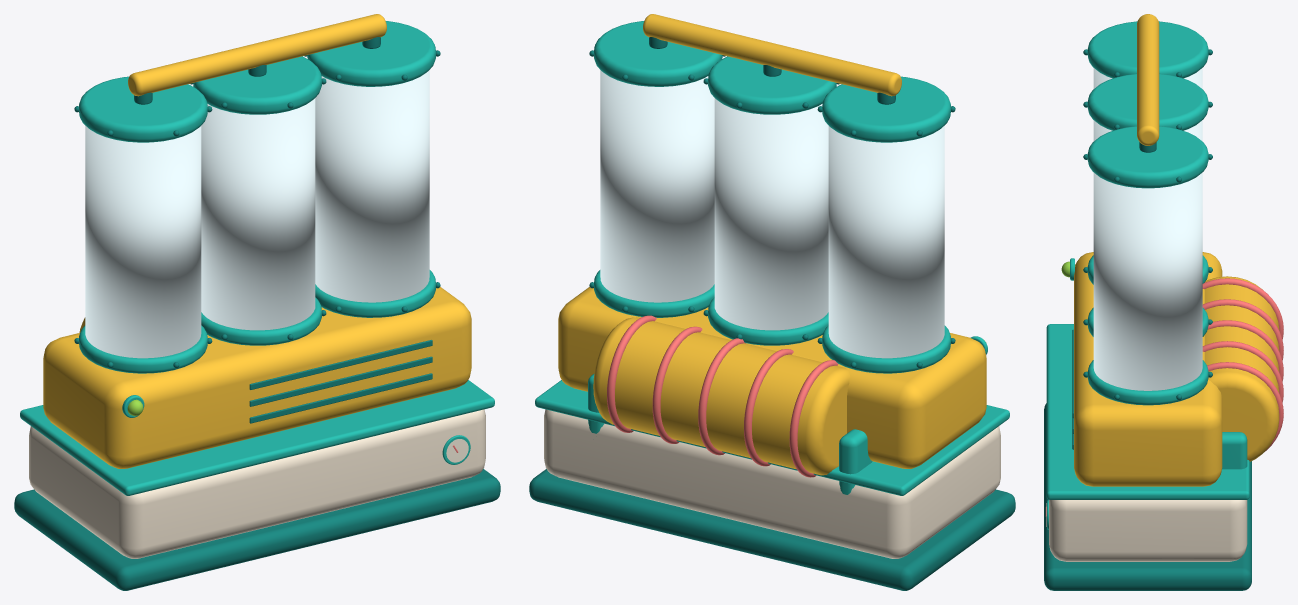
The model's file is GenTide.fbx.
The picture shows the model from 3 angles, left to right: view 1: azimuth 30°, elevation 25°; view 2: azimuth 150°, elevation 25°; view 3: azimuth 270°, elevation 25°; orthographic projection. The views are drawn at different scales.
Parts seen in each view (by area): view 1: GenTide mesh; view 2: GenTide mesh; view 3: GenTide mesh.
Boxes of the visible parts, <box> form: GenTide mesh: <box>14,14,500,590</box>; GenTide mesh: <box>529,14,1015,590</box>; GenTide mesh: <box>1044,14,1283,590</box>.
Bounding box in the file's own units: 1.68 × 1.95 × 0.968.
